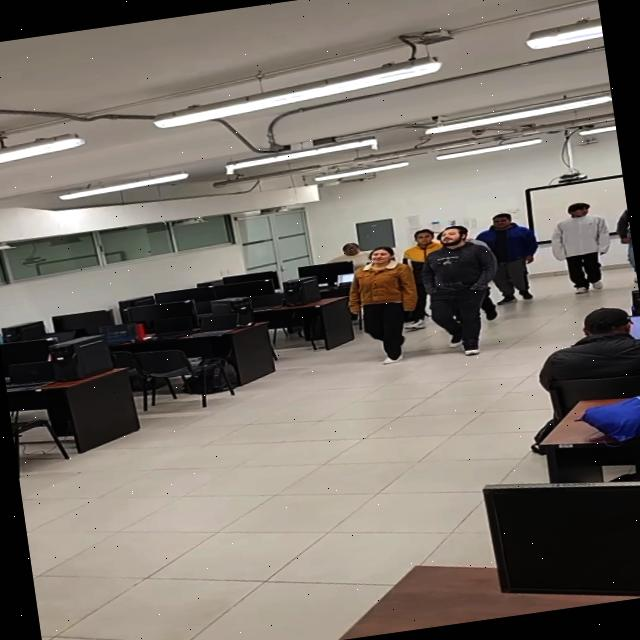Persona: (413, 220, 512, 361), (339, 243, 426, 369), (544, 200, 619, 298), (472, 209, 546, 308), (394, 226, 454, 330), (612, 200, 638, 286)
